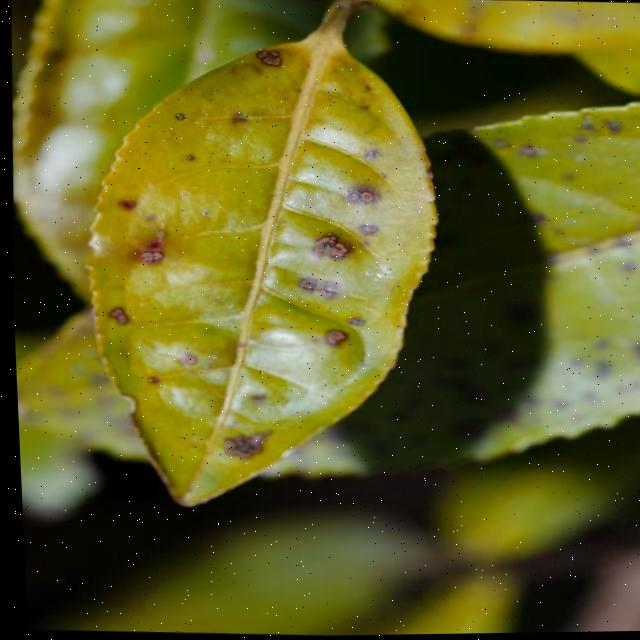Tea red rust: (85, 34, 406, 505)
